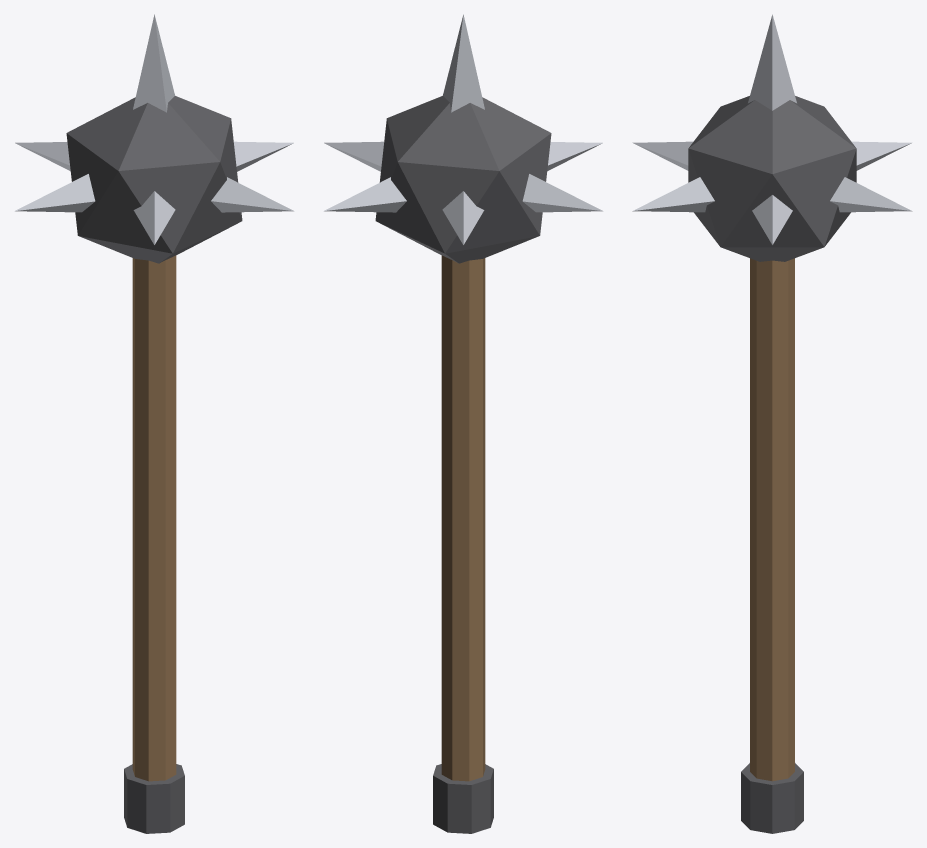
File: w_mace.glb
The picture shows the model from 3 angles, left to right: view 1: azimuth 30°, elevation 25°; view 2: azimuth 150°, elevation 25°; view 3: azimuth 270°, elevation 25°; orthographic projection.
Parts seen in each view (by area): view 1: w_mace; view 2: w_mace; view 3: w_mace.
Part boxes in pixels (bbox=[...]): w_mace: bbox=[14, 14, 294, 833]; w_mace: bbox=[323, 14, 603, 833]; w_mace: bbox=[632, 14, 912, 833].
Size of the model in its own units: 0.36 by 0.99 by 0.3118.
